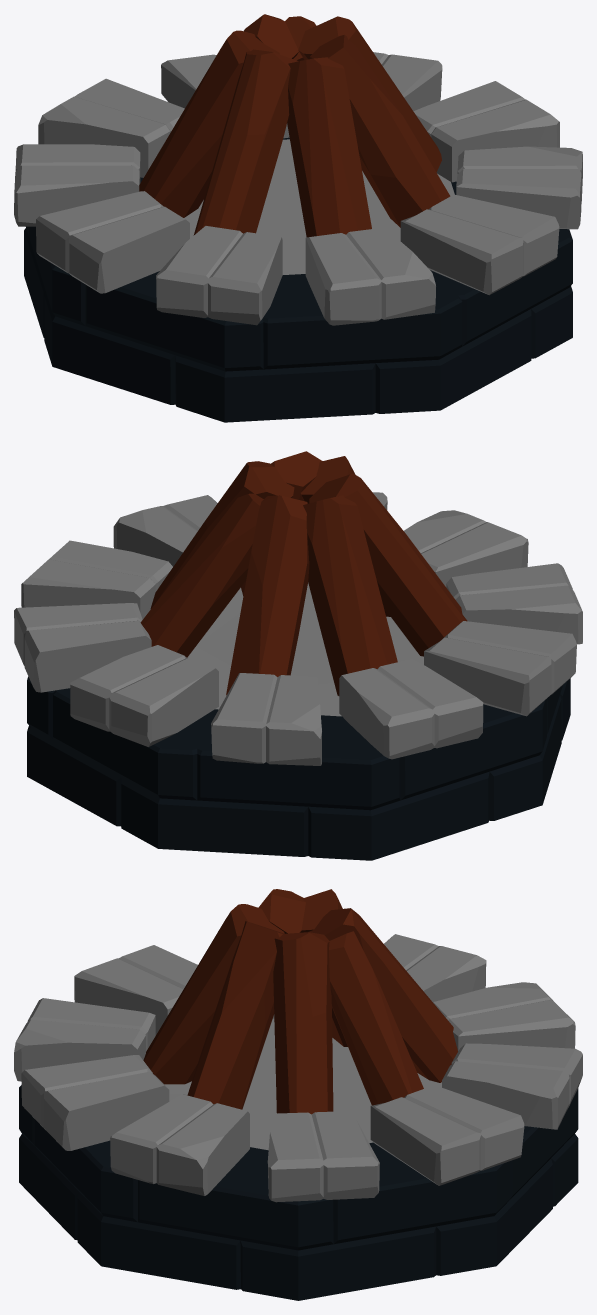
File: CampFire.fbx
3 renders of one model, top to bottom at view 1: azimuth 30°, elevation 25°; view 2: azimuth 150°, elevation 25°; view 3: azimuth 270°, elevation 25°, orthographic.
Visible parts, largest first — view 1: CampFire; view 2: CampFire; view 3: CampFire.
Boxes of the visible parts, x1,y1,x2,y2 form: CampFire: [14, 14, 582, 422]; CampFire: [14, 451, 582, 860]; CampFire: [14, 889, 582, 1300].
Size of the model in its own units: 51.99 by 27.62 by 52.51.
